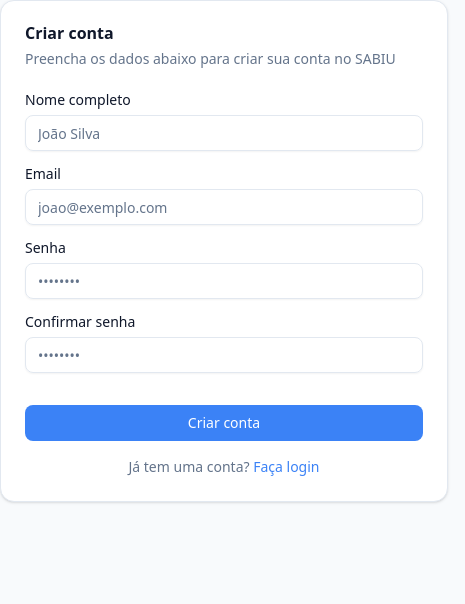
it: SignUpForm › deve validar campos obrigatórios
Click the button "Criar conta" at (224, 423), box [25, 405, 423, 441]
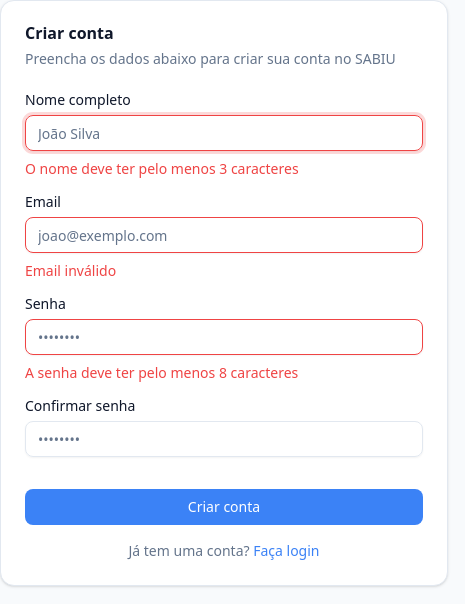
Expected: the text "O nome deve ter pelo menos 3 caracteres" is shown, [25, 159, 299, 178]
